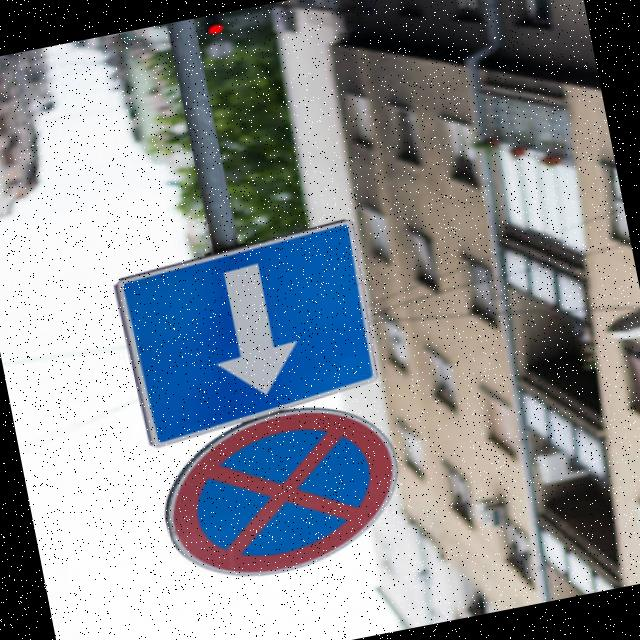no_parking: (132, 382, 433, 598)
